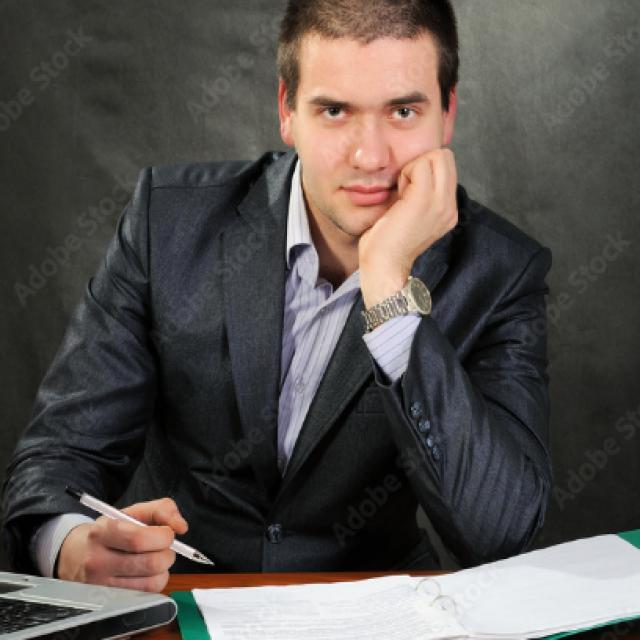Watch: (360, 270, 436, 330)
